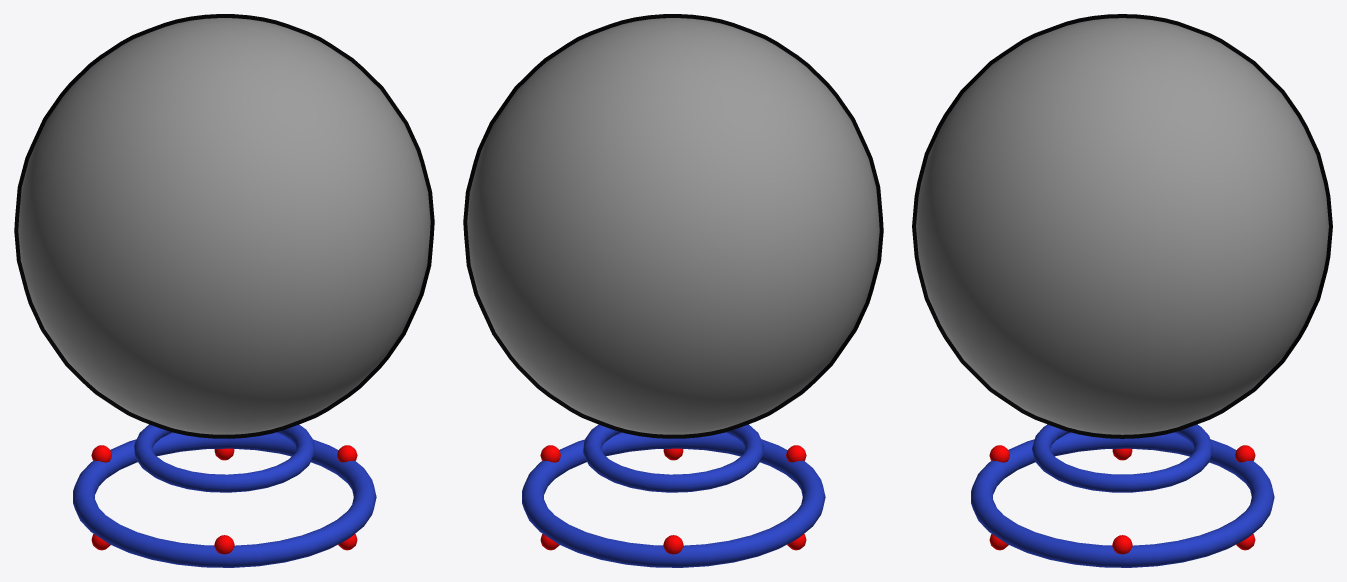
File: something.fbx
The picture shows the model from 3 angles, left to right: view 1: azimuth 30°, elevation 25°; view 2: azimuth 150°, elevation 25°; view 3: azimuth 270°, elevation 25°; orthographic projection.
Parts seen in each view (by area): view 1: orb, Torus001, orb-outline; view 2: orb, Torus001, orb-outline; view 3: orb, Torus001, orb-outline.
Boxes of the visible parts, x1,y1,x2,y2 form: orb: (18, 18, 430, 434); Torus001: (73, 424, 376, 567); orb-outline: (14, 14, 434, 438); orb: (467, 18, 879, 434); Torus001: (522, 424, 825, 567); orb-outline: (463, 14, 883, 438); orb: (916, 18, 1328, 434); Torus001: (971, 424, 1274, 567); orb-outline: (912, 14, 1332, 438).
Size of the model in its own units: 49.73 by 63.56 by 49.73.
